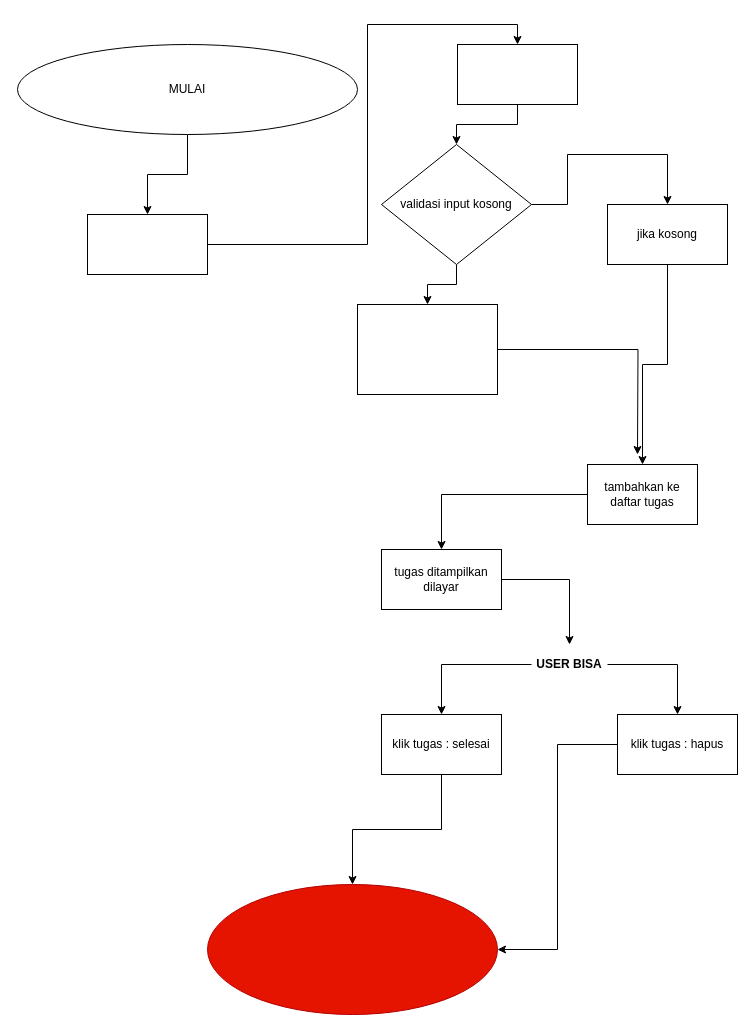
Some shapes in this 755 by 1032 pixel diagram are drawn without their labels. Here are the shapes that lost their labels. From the top down, the centre of each, then its label:
At (517,74): "tambah".
At (147,244): "input tugas baru".
At (427,349): "jika ad tambahkan pengingat".
At (352,949): "END".
